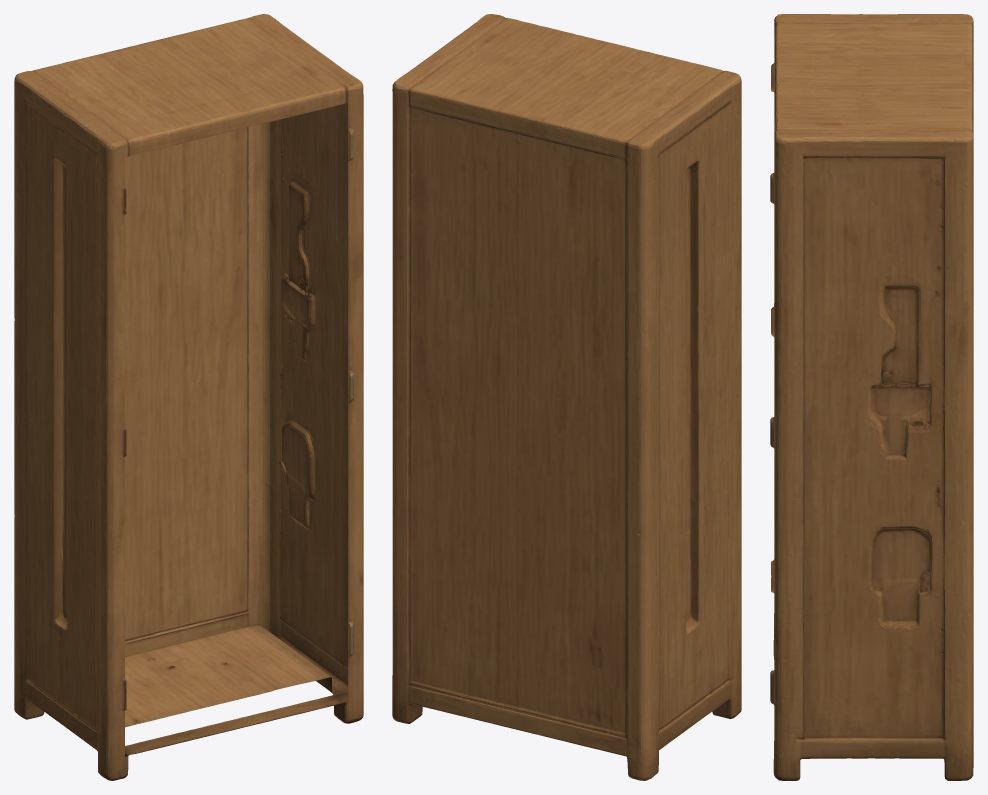
The model's file is body.glb.
The picture shows the model from 3 angles, left to right: view 1: azimuth 30°, elevation 25°; view 2: azimuth 150°, elevation 25°; view 3: azimuth 270°, elevation 25°; orthographic projection.
Visible parts, largest first — view 1: source_surface_0; view 2: source_surface_0; view 3: source_surface_0.
Boxes of the visible parts, x1,y1,x2,y2 form: source_surface_0: [14, 14, 363, 780]; source_surface_0: [392, 14, 741, 780]; source_surface_0: [770, 14, 973, 780].
Size of the model in its own units: 1.8 by 4.25 by 1.22.
1 material, 1 textured.
